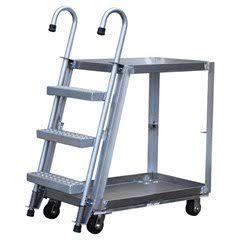Carts: (25, 55, 216, 234)
